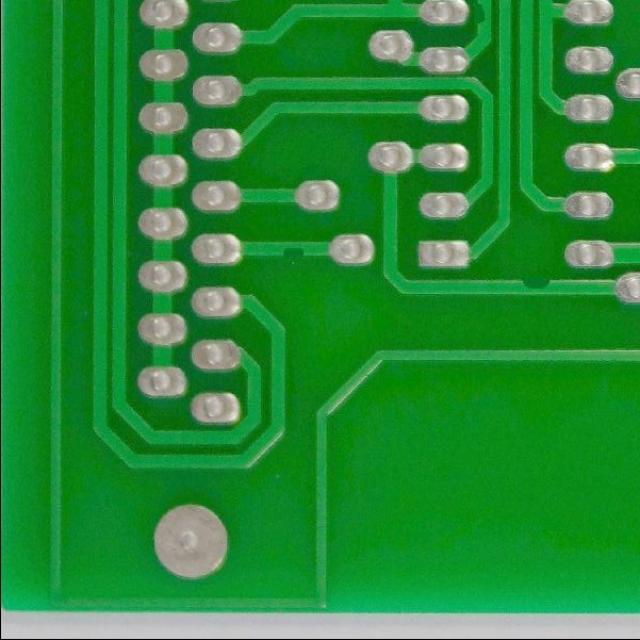mouse_bite: (512, 275, 555, 299), (275, 237, 309, 263), (470, 1, 493, 29)
